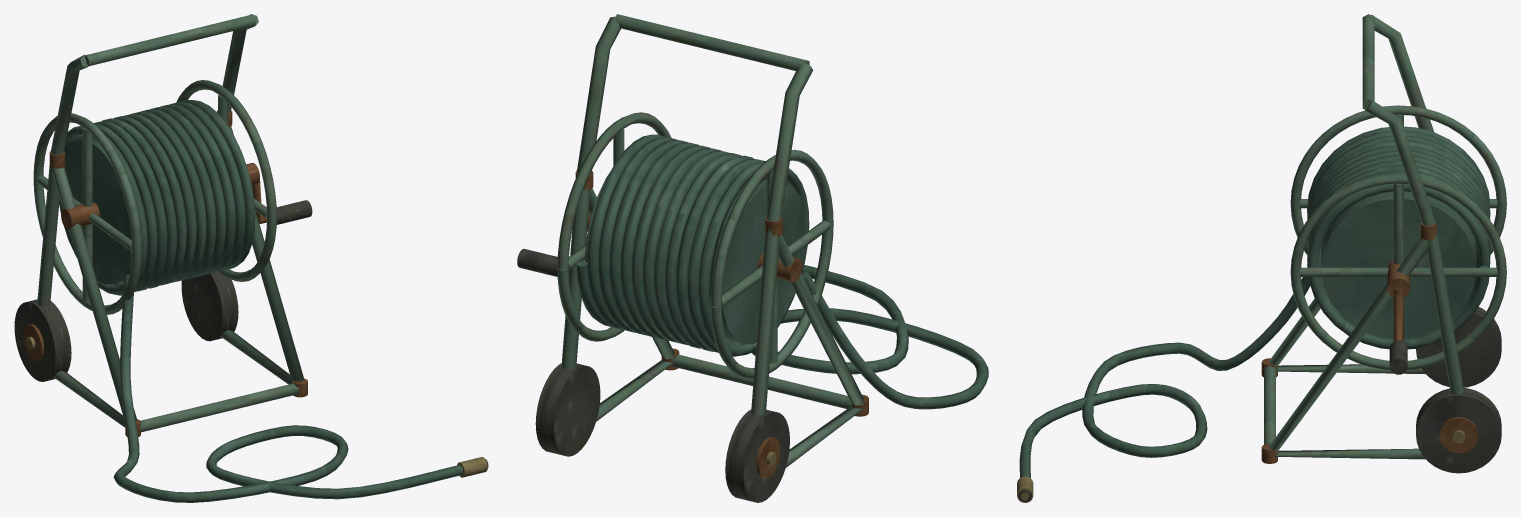
File: by_hose_reel.glb
The picture shows the model from 3 angles, left to right: view 1: azimuth 30°, elevation 25°; view 2: azimuth 150°, elevation 25°; view 3: azimuth 270°, elevation 25°; orthographic projection. The views are drawn at different scales.
Visible parts, largest first — view 1: by_hose_reel; view 2: by_hose_reel; view 3: by_hose_reel.
Boxes of the visible parts, x1=… form: by_hose_reel: x1=14, y1=14, x2=488, y2=502; by_hose_reel: x1=517, y1=14, x2=988, y2=502; by_hose_reel: x1=1017, y1=14, x2=1506, y2=502.
Size of the model in its own units: 0.833 by 0.9511 by 1.14.
Materials: 1 (1 with a texture image).
